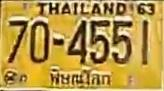0: (29, 20, 48, 62)
1: (140, 20, 148, 64)
4: (66, 19, 86, 63)
5: (111, 19, 132, 63), (89, 19, 109, 63)
7: (7, 19, 27, 62)
PLK: (45, 65, 114, 89)
